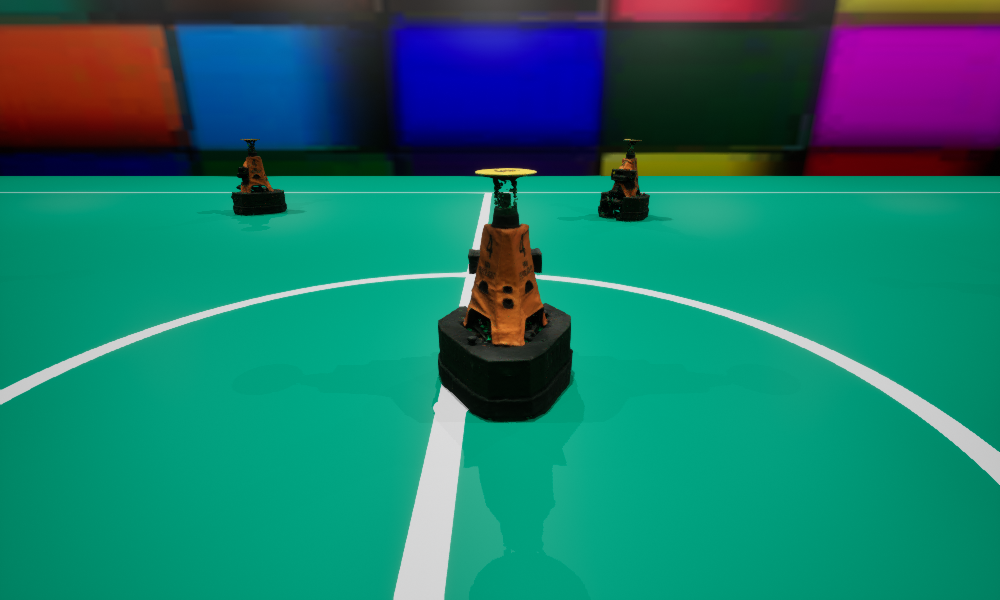0 orange robot TechUnited: (438, 168, 572, 421), (598, 139, 649, 220), (231, 139, 286, 214)
